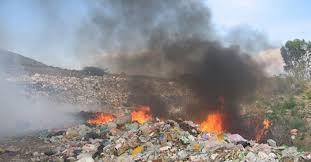fire: (196, 107, 226, 135), (85, 110, 114, 125), (131, 106, 153, 122)
